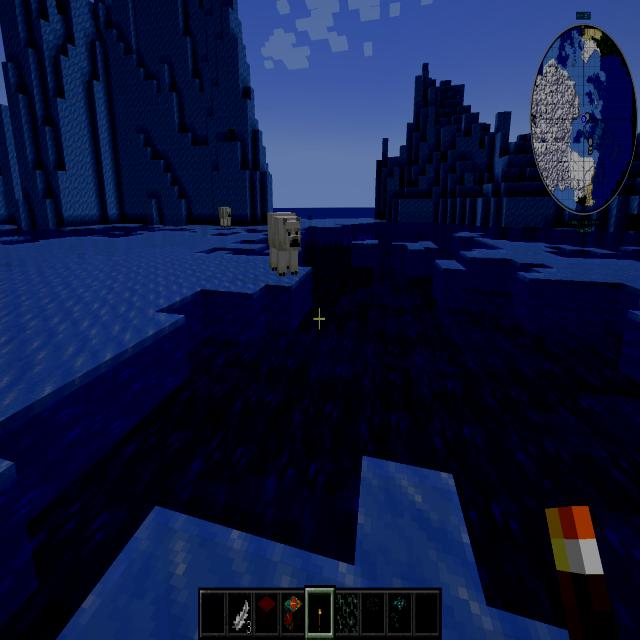Polar Bear: (262, 200, 308, 282), (215, 200, 238, 238)
